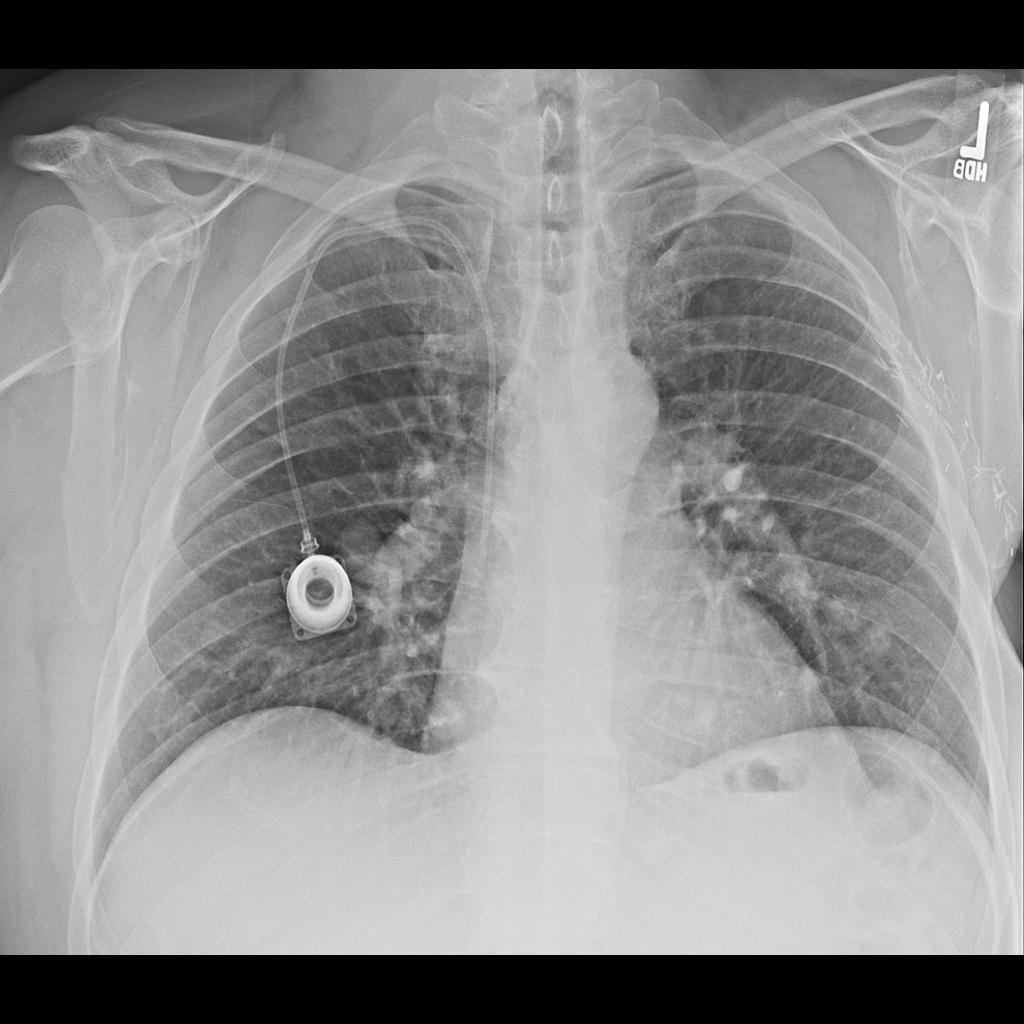Nodule: (827, 590, 864, 633), (863, 611, 899, 655)
